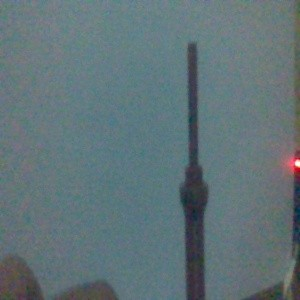obeng: (178, 40, 209, 300)
